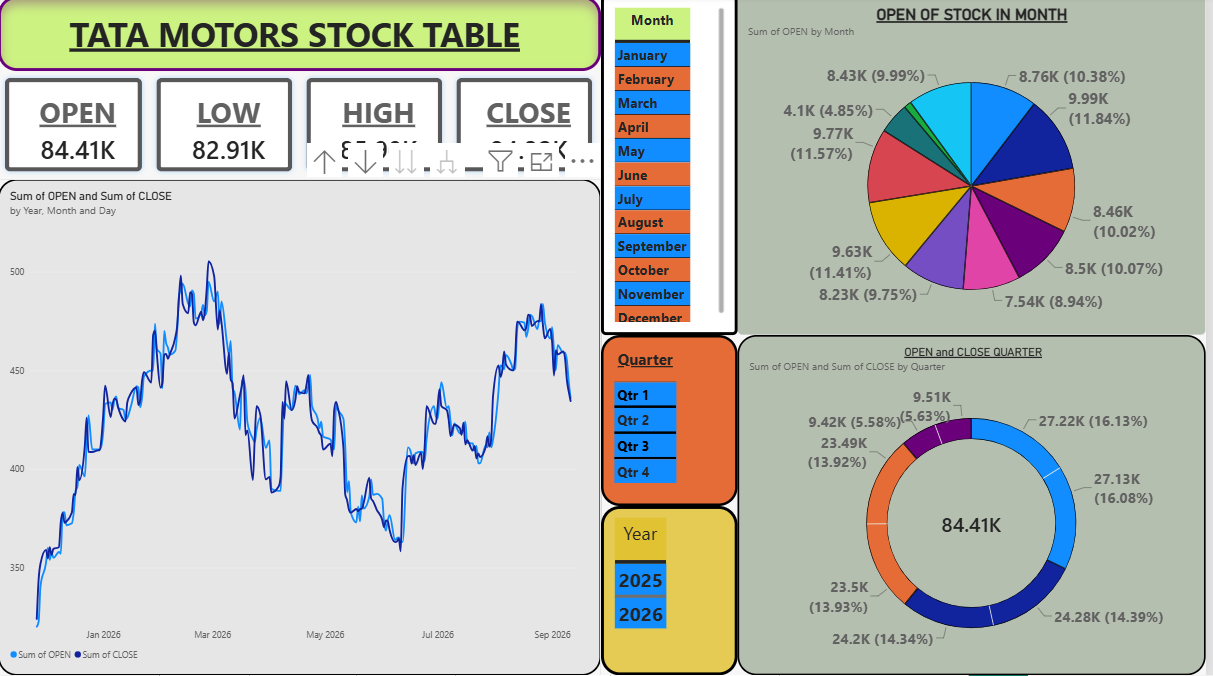

Layout of this report page (visuals, bound fields, positions):
{"tool":"powerbi","page":{"name":"TATA MOTOR","canvas":[1920,1080],"ordinal":4},"visuals":[{"type":"textbox","box":[0,0,959.1,119.3],"z":0},{"type":"cardVisual","fields":{"Data":["Sum(tata motor.LOW)"]},"box":[241,119.3,238.6,171.8],"z":1},{"type":"cardVisual","fields":{"Data":["Sum(tata motor.OPEN)"]},"box":[0,119.3,241,171.8],"z":2},{"type":"cardVisual","fields":{"Data":["Sum(tata motor.HIGH)"]},"box":[479.6,119.3,238.6,171.8],"z":3},{"type":"cardVisual","fields":{"Data":["Sum(tata motor.CLOSE)"]},"box":[718.2,119.3,238.6,171.8],"z":4},{"type":"lineChart","fields":{"Category":["tata motor.DATE.Variation.Date Hierarchy.Year","tata motor.DATE.Variation.Date Hierarchy.Month","tata motor.DATE.Variation.Date Hierarchy.Day"],"Y":["Sum(tata motor.OPEN)","Sum(tata motor.CLOSE)"]},"box":[0,291.1,959.1,789.7],"z":5},{"type":"pieChart","title":"OPEN OF STOCK IN MONTH","fields":{"Category":["tata motor.DATE.Variation.Date Hierarchy.Month"],"Y":["Sum(tata motor.OPEN)"]},"box":[1176.3,0,744.4,539.2],"z":6},{"type":"tableEx","fields":{"Values":["tata motor.DATE.Variation.Date Hierarchy.Month"]},"box":[959.1,0,217.1,539.2],"z":7},{"type":"donutChart","title":" OPEN and CLOSE QUARTER","fields":{"Category":["tata motor.DATE.Variation.Date Hierarchy.Quarter"],"Y":["Sum(tata motor.OPEN)","Sum(tata motor.CLOSE)"]},"box":[1176.3,539.2,744.4,541.6],"z":8},{"type":"tableEx","fields":{"Values":["tata motor.DATE.Variation.Date Hierarchy.Quarter"]},"box":[959.1,539.2,217.1,272],"z":9},{"type":"tableEx","fields":{"Values":["tata motor.DATE.Variation.Date Hierarchy.Year"]},"box":[959.1,811.2,217.1,269.6],"z":10}]}

Visuals, with their boxes in screenshot pixels (x1, y1, x2, y2), scaled from the page's 1920x1080 canvas onto the 1213x676 screenshot:
textbox: (left=0, top=0, right=606, bottom=75)
cardVisual - Sum(tata motor.LOW): (left=152, top=75, right=303, bottom=182)
cardVisual - Sum(tata motor.OPEN): (left=0, top=75, right=152, bottom=182)
cardVisual - Sum(tata motor.HIGH): (left=303, top=75, right=454, bottom=182)
cardVisual - Sum(tata motor.CLOSE): (left=454, top=75, right=604, bottom=182)
lineChart - tata motor.DATE.Variation.Date Hierarchy.Year x tata motor.DATE.Variation.Date Hierarchy.Month: (left=0, top=182, right=606, bottom=675)
"OPEN OF STOCK IN MONTH" pieChart: (left=743, top=0, right=1212, bottom=337)
tableEx - tata motor.DATE.Variation.Date Hierarchy.Month: (left=606, top=0, right=743, bottom=337)
" OPEN and CLOSE QUARTER" donutChart: (left=743, top=337, right=1212, bottom=675)
tableEx - tata motor.DATE.Variation.Date Hierarchy.Quarter: (left=606, top=337, right=743, bottom=508)
tableEx - tata motor.DATE.Variation.Date Hierarchy.Year: (left=606, top=508, right=743, bottom=675)
